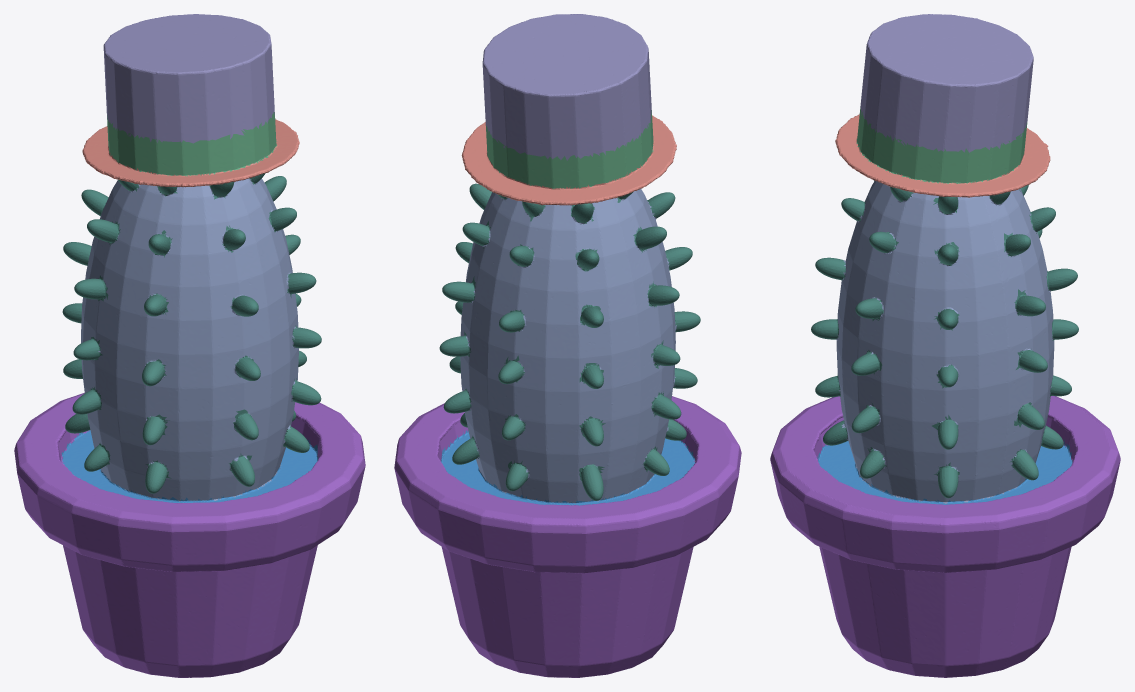
3 views of the same model, side by side, from view 1: azimuth 30°, elevation 25°; view 2: azimuth 150°, elevation 25°; view 3: azimuth 270°, elevation 25° (orthographic).
Parts seen in each view (by area): view 1: world; view 2: world; view 3: world.
Part boxes in pixels (bbox=[...]): world: bbox=[14, 14, 365, 677]; world: bbox=[394, 14, 741, 677]; world: bbox=[770, 14, 1120, 677].
Size of the model in its own units: 1.01 by 1.91 by 1.01.
